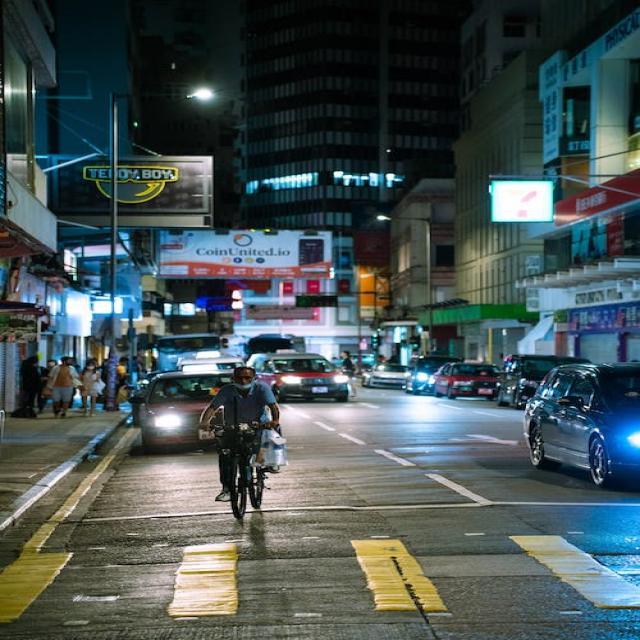car: (522, 362, 640, 486), (132, 369, 240, 450), (496, 354, 590, 409), (247, 352, 352, 401), (431, 362, 503, 399), (402, 355, 462, 396), (361, 363, 405, 390)
